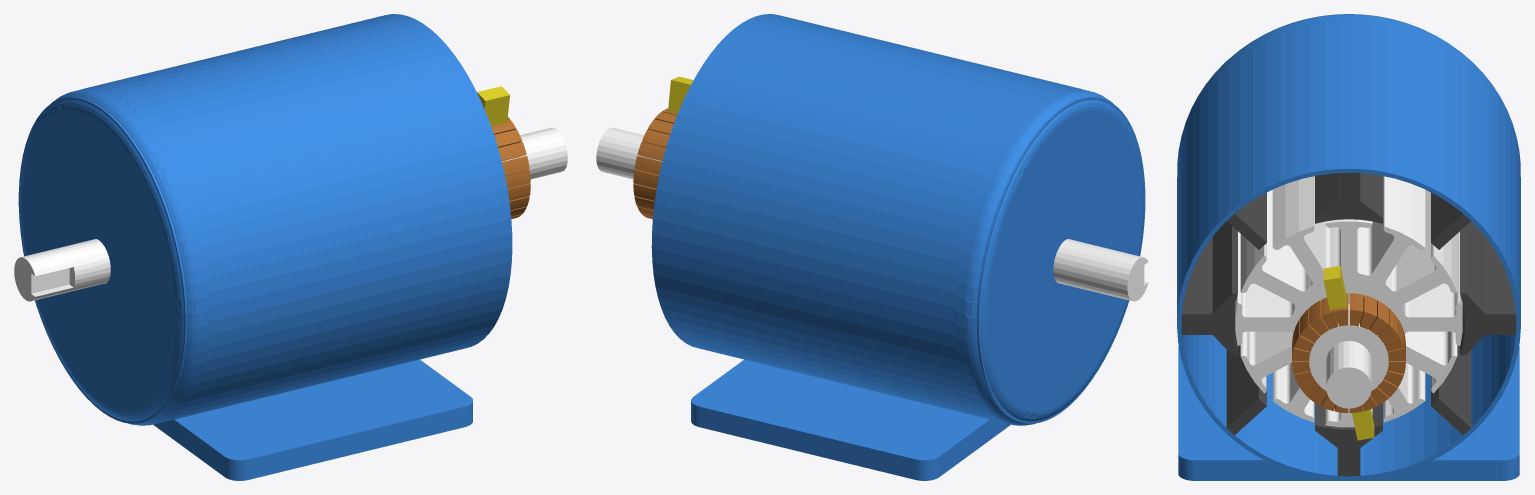
File: dc_motor2.glb
3 views of the same model, side by side, from view 1: azimuth 30°, elevation 25°; view 2: azimuth 150°, elevation 25°; view 3: azimuth 270°, elevation 25° (orthographic).
Visible parts, largest first — view 1: 07-Motor_body, 08-Stator_cap_back, 01-Rotor_body, 02-Collector, 03-Brushes; view 2: 07-Motor_body, 08-Stator_cap_back, 01-Rotor_body, 02-Collector, 03-Brushes; view 3: 07-Motor_body, 01-Rotor_body, 05-Main_poles, 06-Interpoles, 02-Collector, 08-Stator_cap_back, 03-Brushes.
Boxes of the visible parts, x1=… form: 07-Motor_body: x1=83, y1=14, x2=512, y2=480; 08-Stator_cap_back: x1=18, y1=88, x2=209, y2=425; 01-Rotor_body: x1=14, y1=127, x2=567, y2=301; 02-Collector: x1=491, y1=117, x2=530, y2=219; 03-Brushes: x1=477, y1=86, x2=509, y2=126; 07-Motor_body: x1=651, y1=14, x2=1080, y2=480; 08-Stator_cap_back: x1=954, y1=88, x2=1145, y2=425; 01-Rotor_body: x1=596, y1=127, x2=1148, y2=301; 02-Collector: x1=633, y1=108, x2=677, y2=219; 03-Brushes: x1=668, y1=76, x2=693, y2=114; 07-Motor_body: x1=1177, y1=20, x2=1520, y2=480; 01-Rotor_body: x1=1235, y1=176, x2=1462, y2=427; 05-Main_poles: x1=1181, y1=173, x2=1516, y2=476; 06-Interpoles: x1=1226, y1=192, x2=1471, y2=435; 02-Collector: x1=1292, y1=293, x2=1405, y2=412; 08-Stator_cap_back: x1=1177, y1=14, x2=1520, y2=164; 03-Brushes: x1=1323, y1=265, x2=1374, y2=440.
Size of the model in its own units: 5.4 by 3.18 by 3.02.
Materials: 5 (1 with a texture image).
